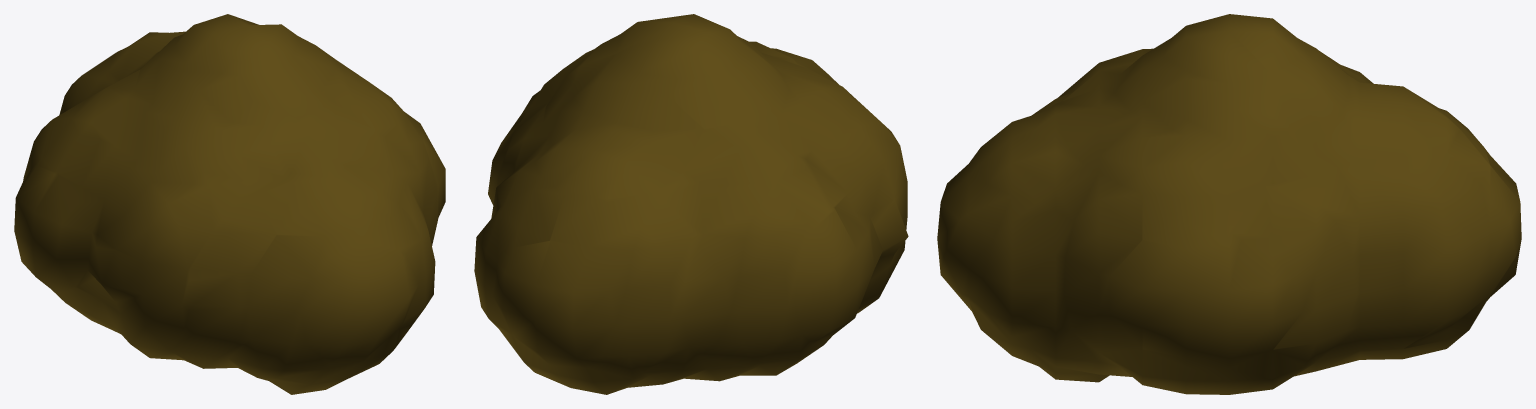
Rendered from Hedge02.FBX.
3 renders of one model, left to right at view 1: azimuth 30°, elevation 25°; view 2: azimuth 150°, elevation 25°; view 3: azimuth 270°, elevation 25°, orthographic. The views are drawn at different scales.
Parts seen in each view (by area): view 1: Hedge02; view 2: Hedge02; view 3: Hedge02.
Part boxes in pixels (box(x1,y1,x2,y2)): Hedge02: box(14, 14, 445, 394); Hedge02: box(474, 14, 908, 394); Hedge02: box(937, 14, 1521, 394).
Size of the model in its own units: 3.12 by 2.55 by 3.94.
